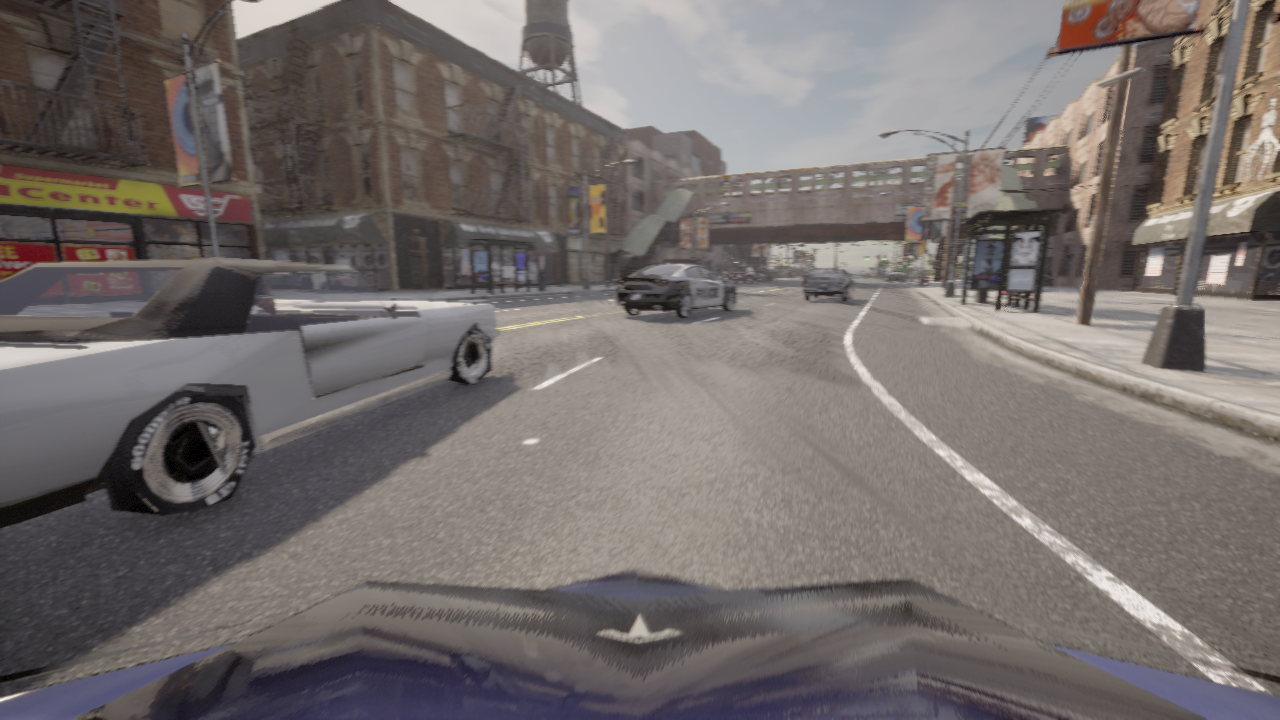cyclist: (0, 569, 1279, 719), (0, 258, 501, 529), (616, 259, 735, 318), (802, 269, 855, 301), (727, 267, 753, 283), (803, 269, 820, 286), (886, 271, 905, 282), (746, 273, 765, 282), (916, 273, 929, 285), (764, 274, 772, 281), (724, 272, 727, 277)
